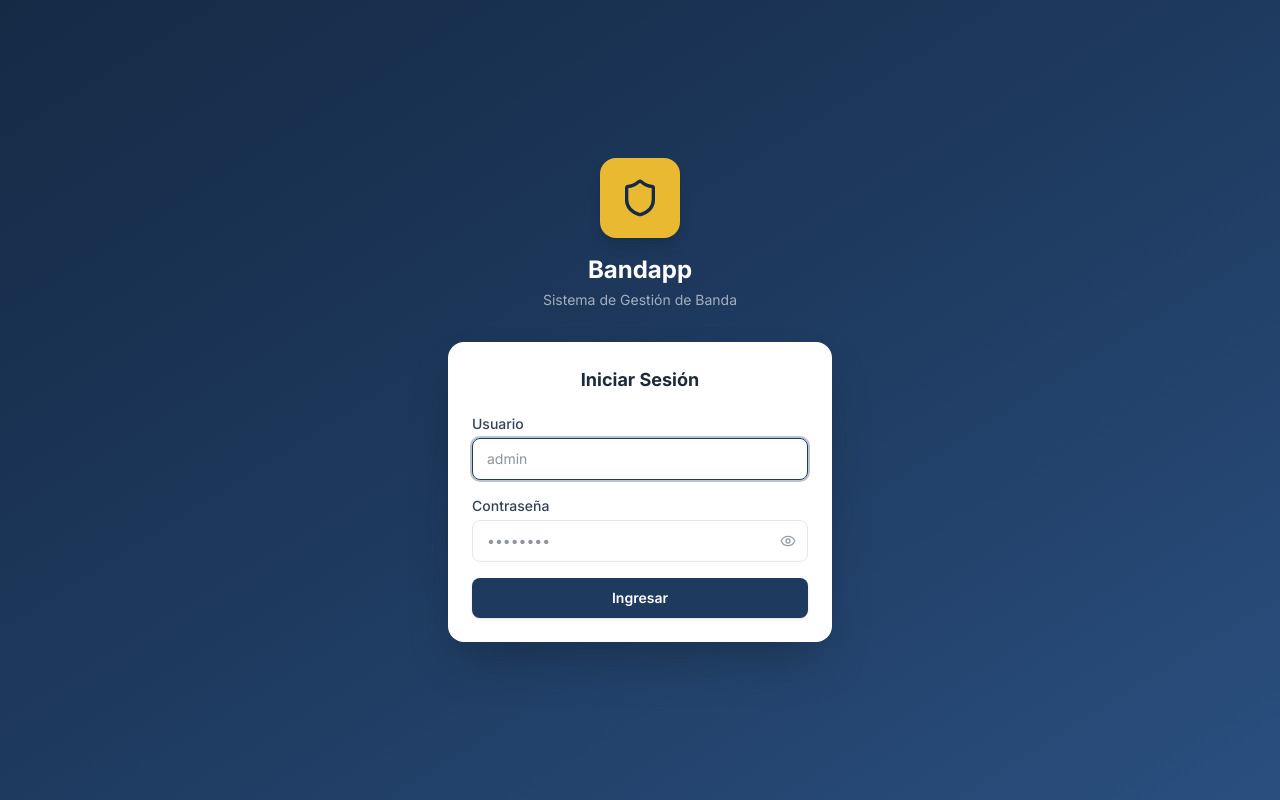
Bandapp › shows error on wrong credentials
The width and height of the screenshot is (1280, 800).
Type "wrong" into the field with placeholder "admin" at (640, 459), box [472,438,808,480]
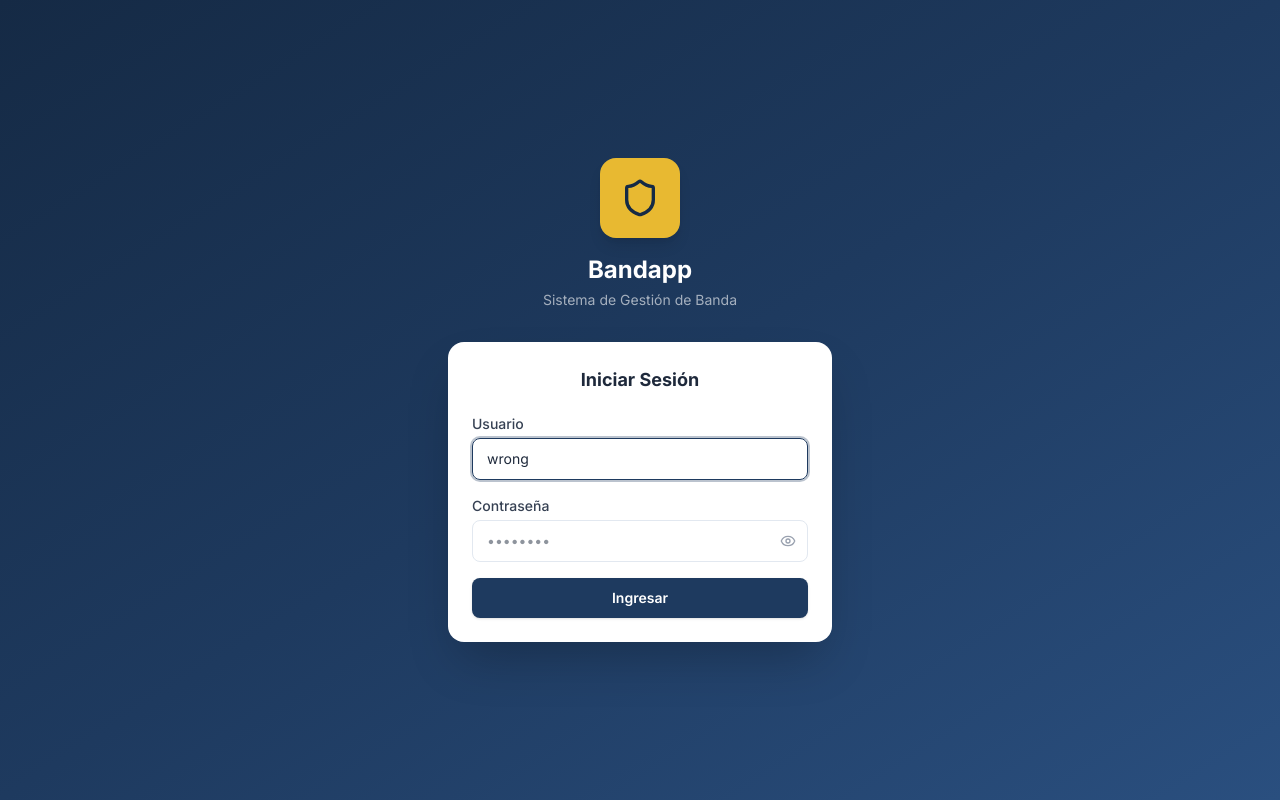
Type "wrong" into the password field with placeholder "••••••••" at (640, 541), box [472,520,808,562]
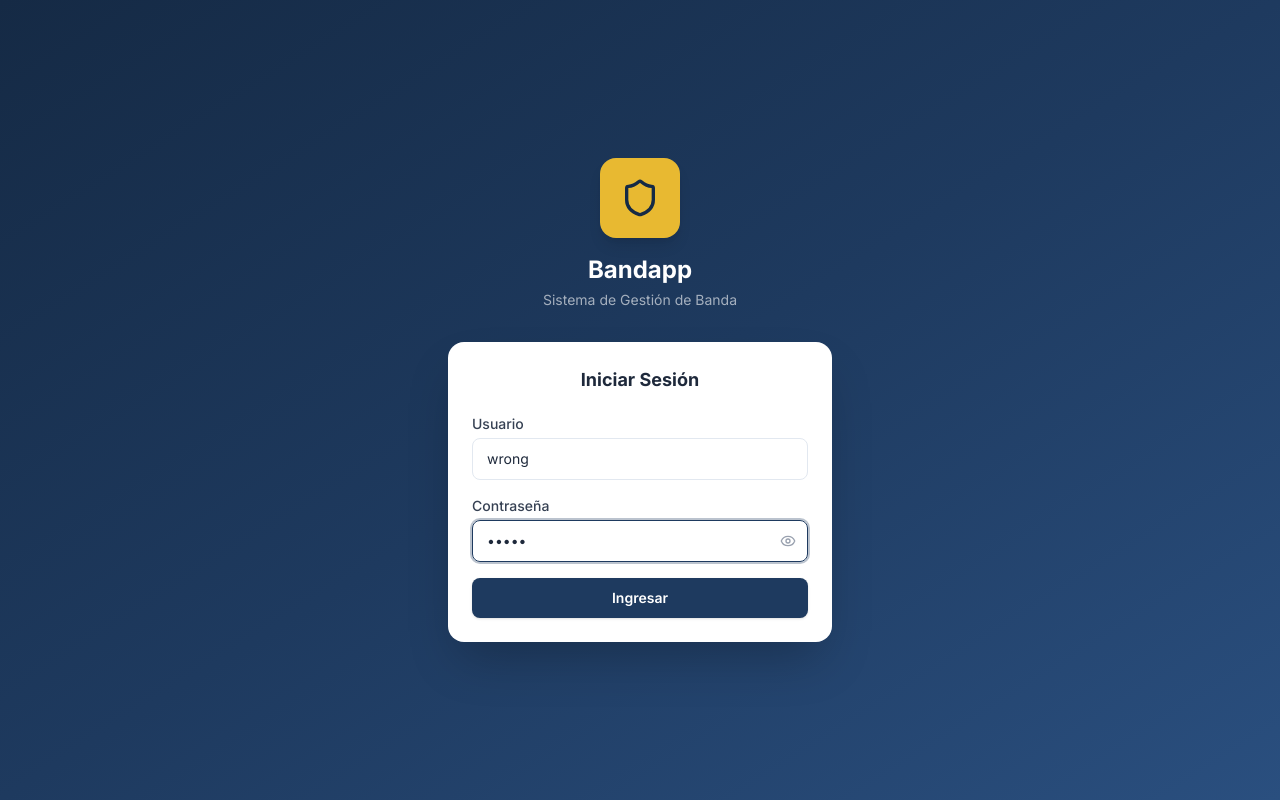
Click the button "Ingresar" at (640, 598), box [472,578,808,618]
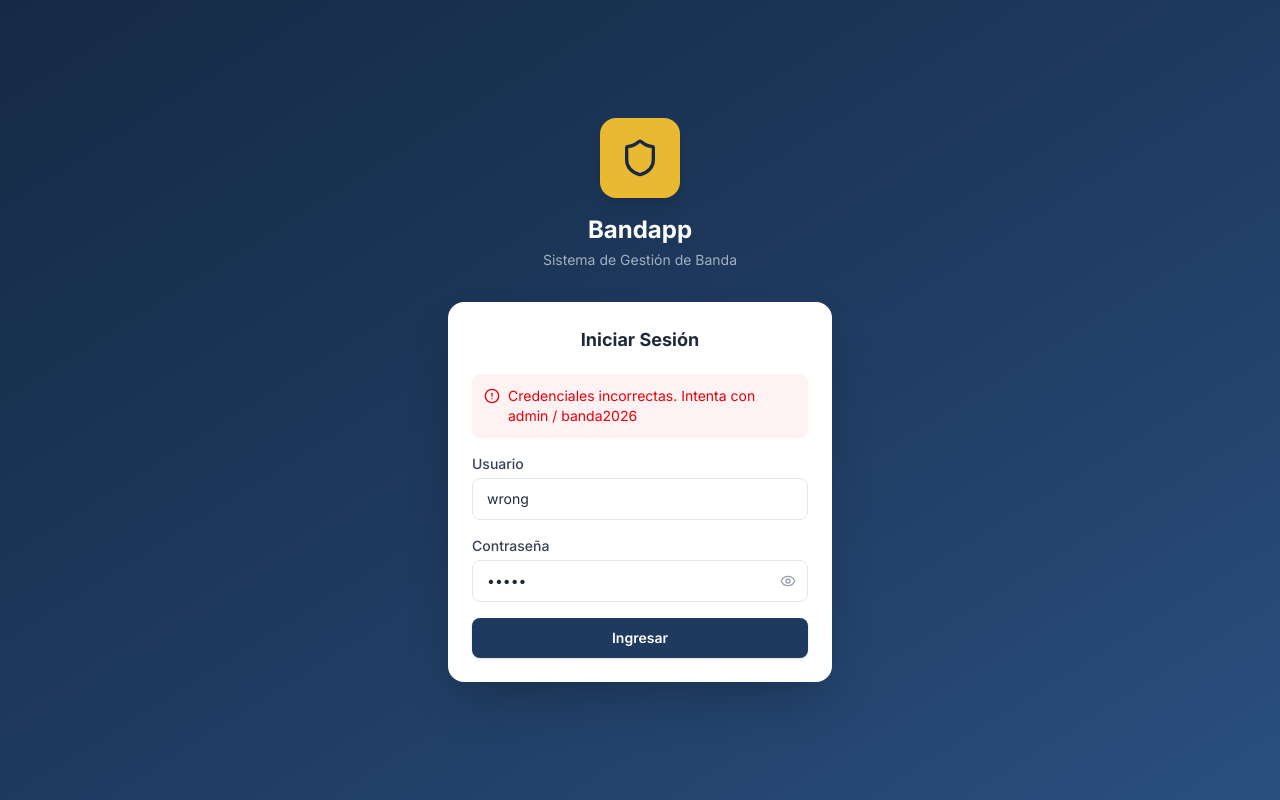
Now the text "Credenciales incorrectas. Intenta con admin / banda2026" is shown, box [508,386,796,426]
